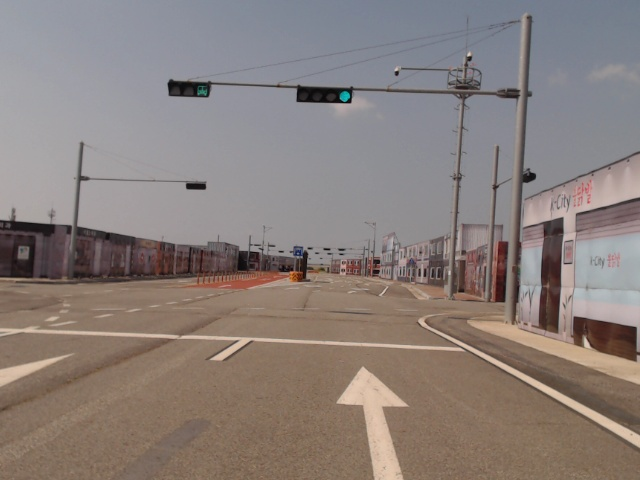straight_green_4: (295, 85, 355, 104)
